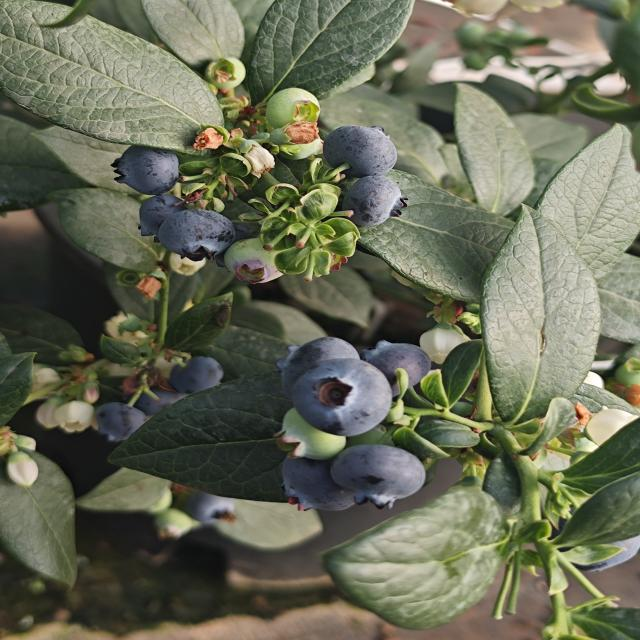ripe: (288, 357, 394, 438), (546, 504, 640, 578), (328, 443, 428, 511), (276, 329, 365, 399), (154, 207, 238, 263), (320, 123, 400, 180), (119, 186, 197, 239), (109, 144, 182, 198), (340, 174, 409, 230), (361, 338, 430, 391), (284, 456, 347, 507), (171, 480, 239, 526), (122, 378, 184, 422), (166, 354, 226, 396), (98, 404, 151, 431)
